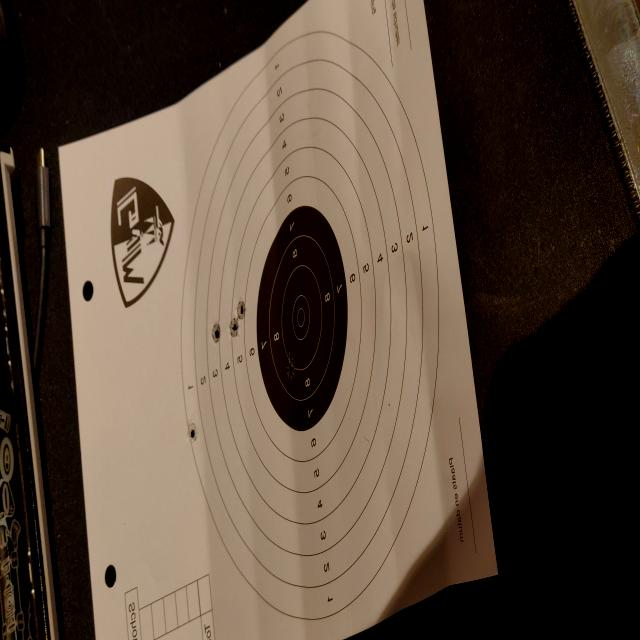1: (187, 422, 198, 444)
4: (210, 320, 222, 344)
5: (229, 316, 240, 338)
6: (236, 298, 247, 320)
9: (286, 354, 296, 381)
Target: (179, 29, 440, 620)
black_contour: (256, 205, 348, 430)
